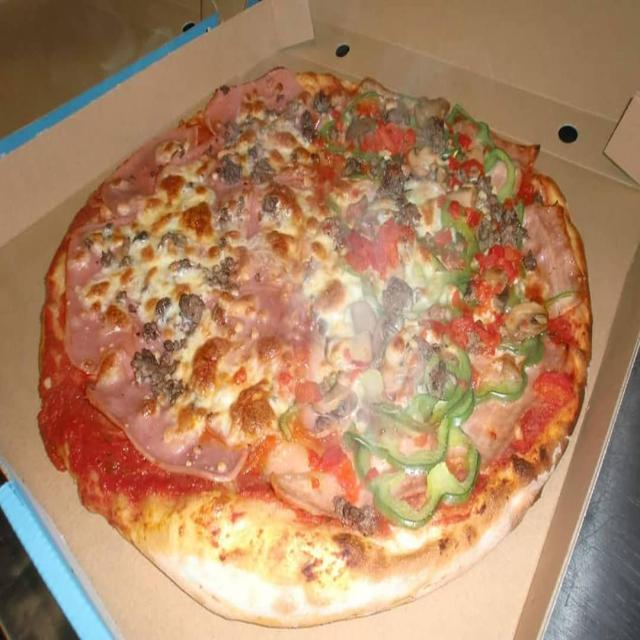pizza: (33, 64, 594, 628)
